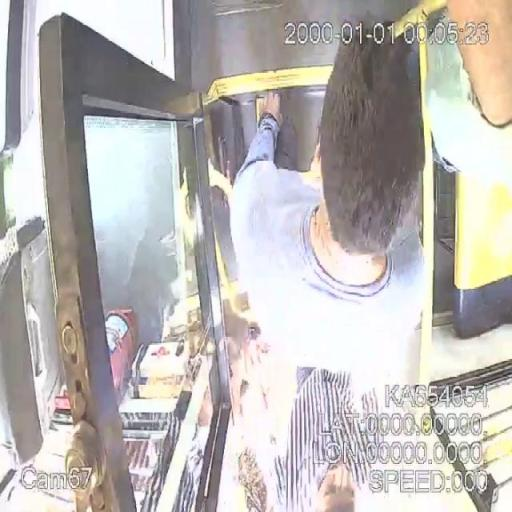persona: (227, 16, 430, 384), (252, 356, 390, 512)
